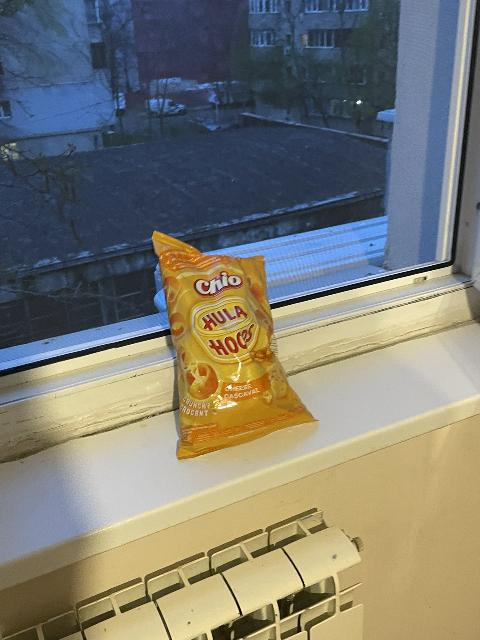Chio Hula Hoops Cheese 70g: (153, 240, 320, 456)
